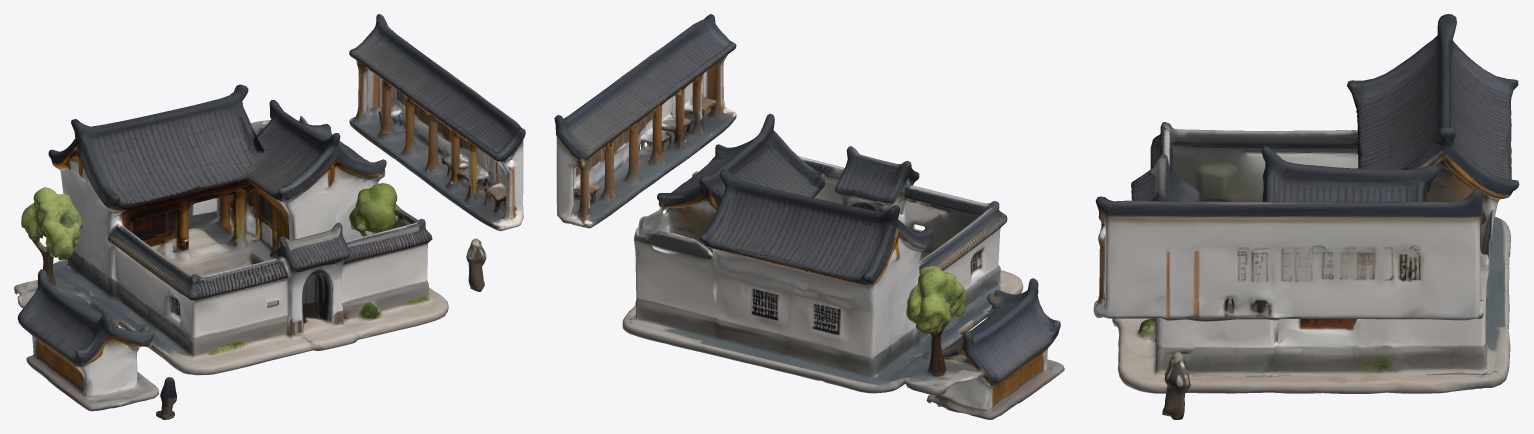
3 renders of one model, left to right at view 1: azimuth 30°, elevation 25°; view 2: azimuth 150°, elevation 25°; view 3: azimuth 270°, elevation 25°, orthographic. The views are drawn at different scales.
Parts seen in each view (by area): view 1: material.001; view 2: material.001; view 3: material.001.
Boxes of the visible parts, x1=… form: material.001: x1=14, y1=14, x2=525, y2=419; material.001: x1=554, y1=14, x2=1064, y2=419; material.001: x1=1093, y1=14, x2=1519, y2=419.
Bounding box in the file's own units: 0.9201 × 0.5021 × 0.6531.
1 material, 1 textured.
